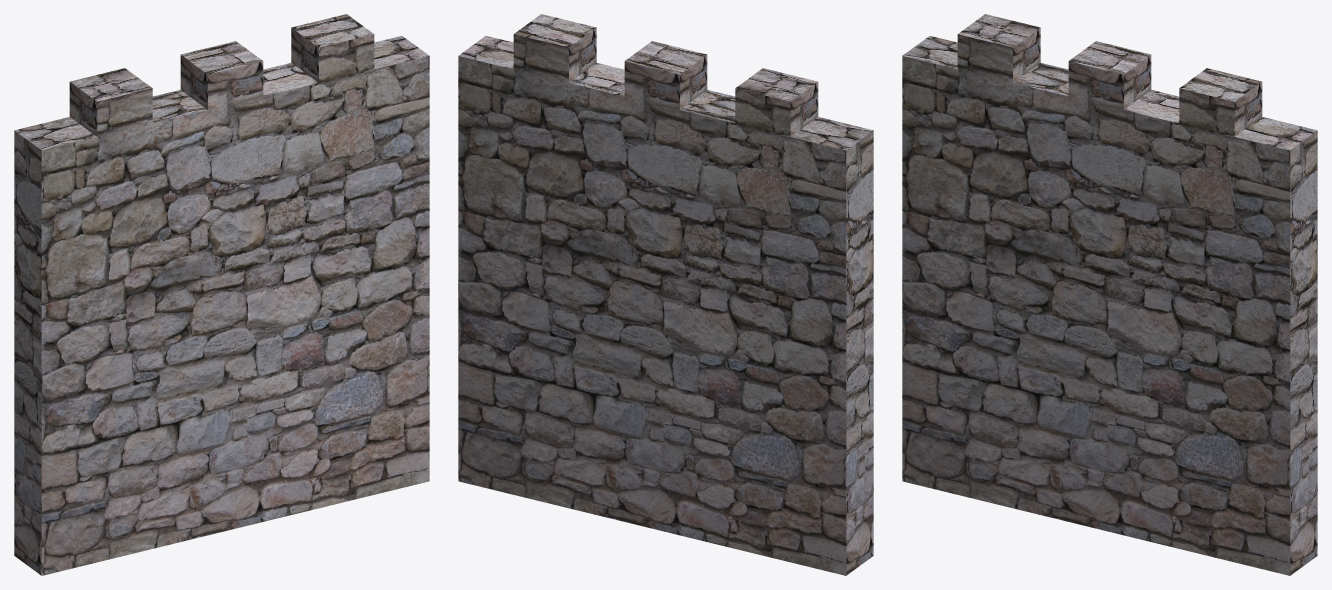
File: Stone_Wall_Castle_Middle_001.fbx
3 views of the same model, side by side, from view 1: azimuth 30°, elevation 25°; view 2: azimuth 150°, elevation 25°; view 3: azimuth 330°, elevation 25° (orthographic).
Parts seen in each view (by area): view 1: Box001; view 2: Box001; view 3: Box001.
Part boxes in pixels (<box>): Box001: <box>14,14,429,575</box>; Box001: <box>458,14,873,575</box>; Box001: <box>902,14,1317,575</box>.
Bounding box in the file's own units: 138 × 157 × 17.01.
1 material, 1 textured.
